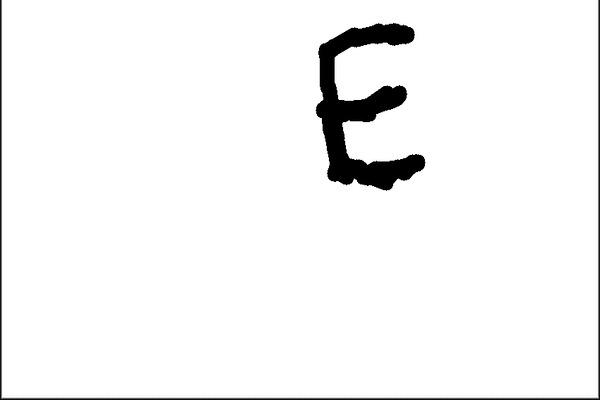E: (306, 17, 434, 194)
